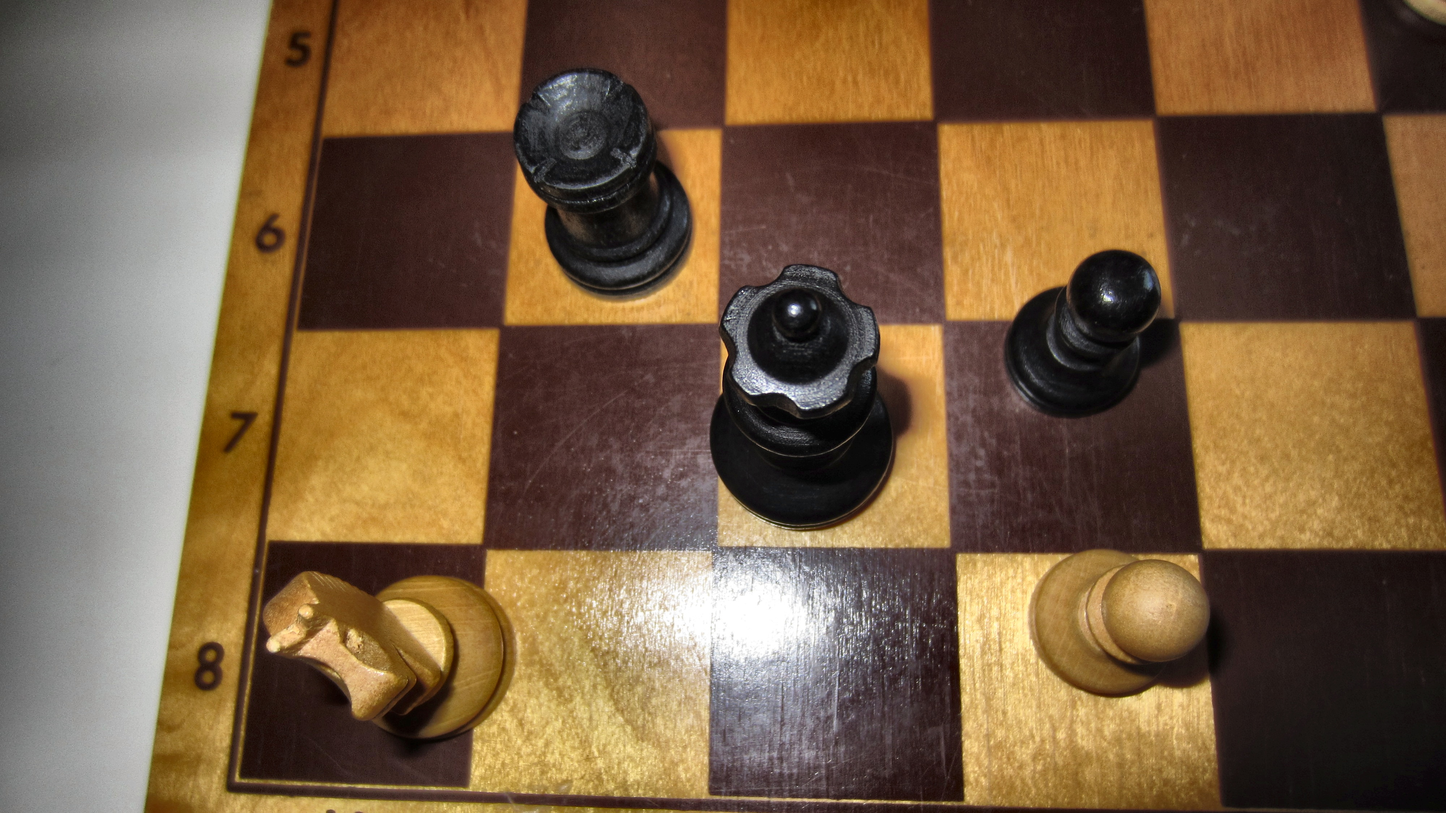black-pawn: (1002, 246, 1164, 418)
black-queen: (708, 261, 899, 532)
black-rook: (509, 64, 697, 301)
white-knight: (257, 569, 517, 742)
white-pawn: (1028, 548, 1213, 699)
